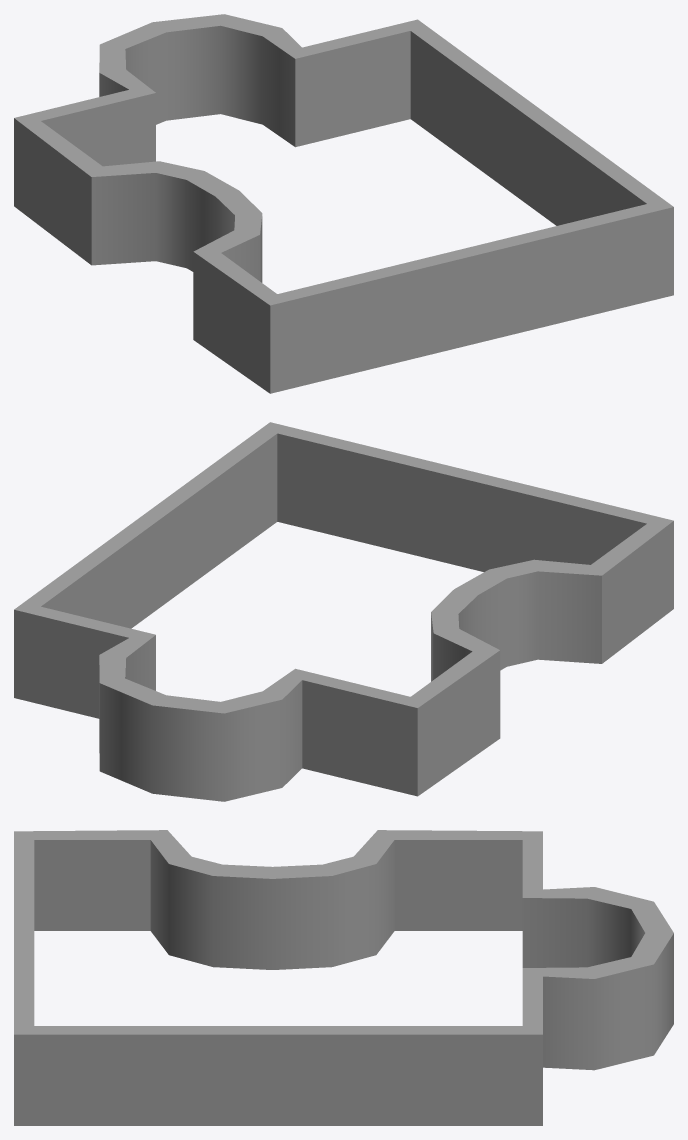
File: BiscuitCutter_PuzzleCorner_01.fbx
3 renders of one model, top to bottom at view 1: azimuth 30°, elevation 25°; view 2: azimuth 150°, elevation 25°; view 3: azimuth 270°, elevation 25°, orthographic. The views are drawn at different scales.
Parts seen in each view (by area): view 1: BiscuitCutter_PuzzleCorner_01; view 2: BiscuitCutter_PuzzleCorner_01; view 3: BiscuitCutter_PuzzleCorner_01.
Boxes of the visible parts, x1=… form: BiscuitCutter_PuzzleCorner_01: x1=14, y1=14, x2=673, y2=393; BiscuitCutter_PuzzleCorner_01: x1=14, y1=422, x2=673, y2=801; BiscuitCutter_PuzzleCorner_01: x1=14, y1=830, x2=673, y2=1125.
Size of the model in its own units: 0.0614 by 0.0128 by 0.0837.
